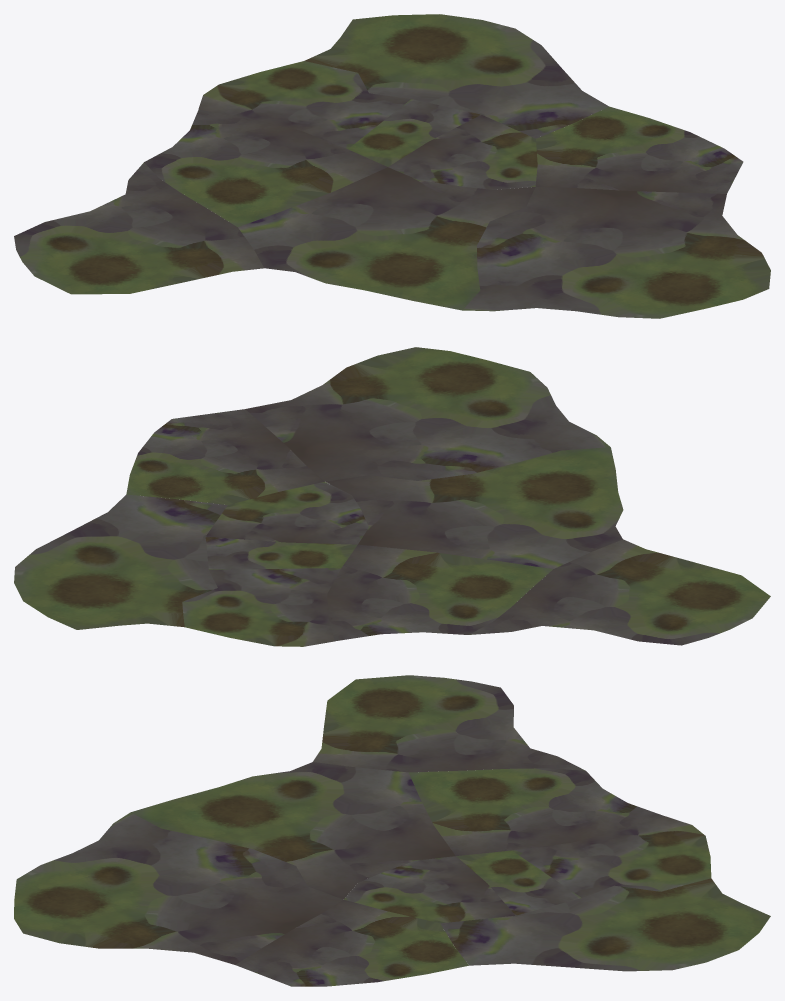
The model's file is MainIsland_Grass.fbx.
3 renders of one model, top to bottom at view 1: azimuth 30°, elevation 25°; view 2: azimuth 150°, elevation 25°; view 3: azimuth 270°, elevation 25°, orthographic.
Parts seen in each view (by area): view 1: MainIsland_Grassplane.006, MainIsland_Grassplane, MainIsland_Grassplane.007, MainIsland_Grassplane.002, MainIsland_Grassplane.001, MainIsland_Grassplane.005, MainIsland_Grassplane.003, MainIsland_Grassplane.004, MainIsland_Grassplane.008; view 2: MainIsland_Grassplane.006, MainIsland_Grassplane, MainIsland_Grassplane.007, MainIsland_Grassplane.002, MainIsland_Grassplane.001, MainIsland_Grassplane.005, MainIsland_Grassplane.003, MainIsland_Grassplane.004, MainIsland_Grassplane.008; view 3: MainIsland_Grassplane.006, MainIsland_Grassplane, MainIsland_Grassplane.007, MainIsland_Grassplane.002, MainIsland_Grassplane.001, MainIsland_Grassplane.005, MainIsland_Grassplane.003, MainIsland_Grassplane.004, MainIsland_Grassplane.008.
Boxes of the visible parts, left/top/right/bottom form: MainIsland_Grassplane.006: left=462, top=186, right=770, bottom=318; MainIsland_Grassplane: left=238, top=167, right=535, bottom=310; MainIsland_Grassplane.007: left=304, top=14, right=608, bottom=138; MainIsland_Grassplane.002: left=14, top=162, right=263, bottom=294; MainIsland_Grassplane.001: left=144, top=109, right=387, bottom=226; MainIsland_Grassplane.005: left=535, top=106, right=743, bottom=193; MainIsland_Grassplane.003: left=198, top=61, right=410, bottom=148; MainIsland_Grassplane.004: left=388, top=114, right=537, bottom=189; MainIsland_Grassplane.008: left=348, top=99, right=480, bottom=166; MainIsland_Grassplane.006: left=245, top=347, right=610, bottom=481; MainIsland_Grassplane: left=325, top=447, right=623, bottom=568; MainIsland_Grassplane.007: left=14, top=494, right=227, bottom=629; MainIsland_Grassplane.002: left=469, top=539, right=770, bottom=645; MainIsland_Grassplane.001: left=327, top=544, right=552, bottom=641; MainIsland_Grassplane.005: left=126, top=409, right=324, bottom=505; MainIsland_Grassplane.003: left=182, top=568, right=341, bottom=646; MainIsland_Grassplane.004: left=206, top=481, right=368, bottom=544; MainIsland_Grassplane.008: left=205, top=536, right=357, bottom=569; MainIsland_Grassplane.006: left=14, top=812, right=343, bottom=964; MainIsland_Grassplane: left=131, top=762, right=455, bottom=899; MainIsland_Grassplane.007: left=440, top=878, right=770, bottom=971; MainIsland_Grassplane.002: left=313, top=675, right=584, bottom=772; MainIsland_Grassplane.001: left=408, top=768, right=664, bottom=855; MainIsland_Grassplane.005: left=235, top=899, right=468, bottom=986; MainIsland_Grassplane.003: left=512, top=816, right=711, bottom=897; MainIsland_Grassplane.004: left=344, top=856, right=515, bottom=923; MainIsland_Grassplane.008: left=456, top=850, right=581, bottom=915.
Size of the model in its own units: 12065 by 0.00202 by 12385.
